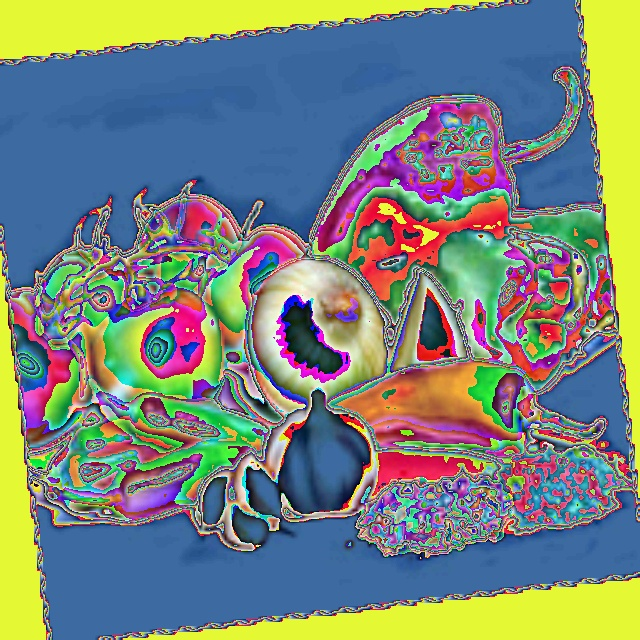background: (10, 71, 617, 550)
